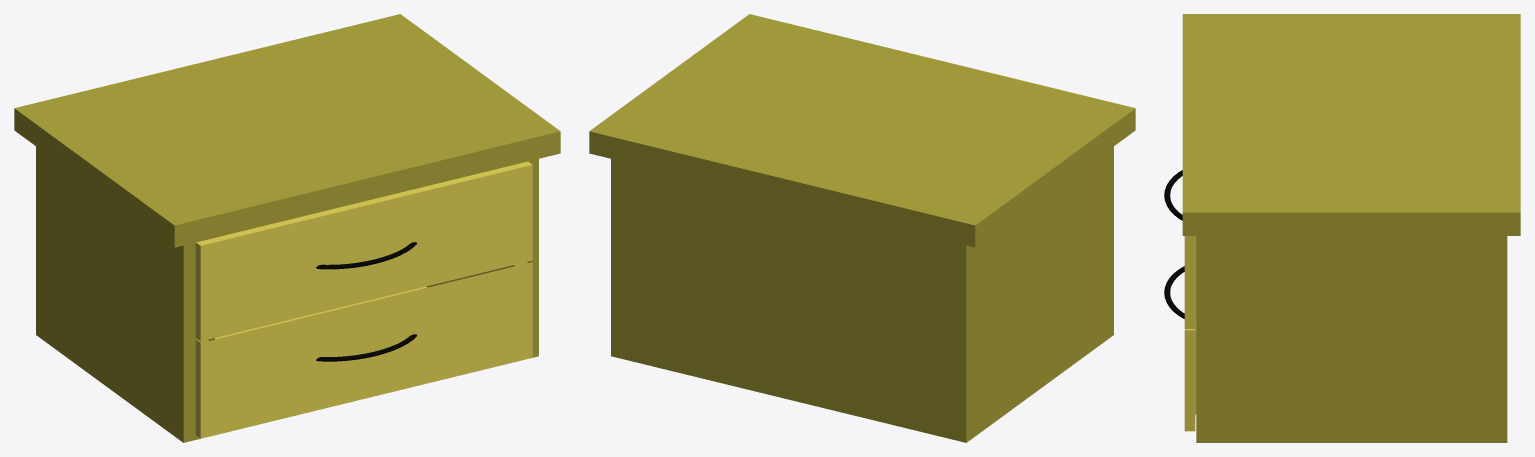
The model's file is Cabinet.fbx.
The picture shows the model from 3 angles, left to right: view 1: azimuth 30°, elevation 25°; view 2: azimuth 150°, elevation 25°; view 3: azimuth 270°, elevation 25°; orthographic projection. The views are drawn at different scales.
Visible parts, largest first — view 1: Cabinet; view 2: Cabinet; view 3: Cabinet.
Boxes of the visible parts, x1,y1,x2,y2 form: Cabinet: (14,14,560,442); Cabinet: (589,14,1135,442); Cabinet: (1164,14,1520,442).
Bounding box in the file's own units: 199 × 111 × 151.
